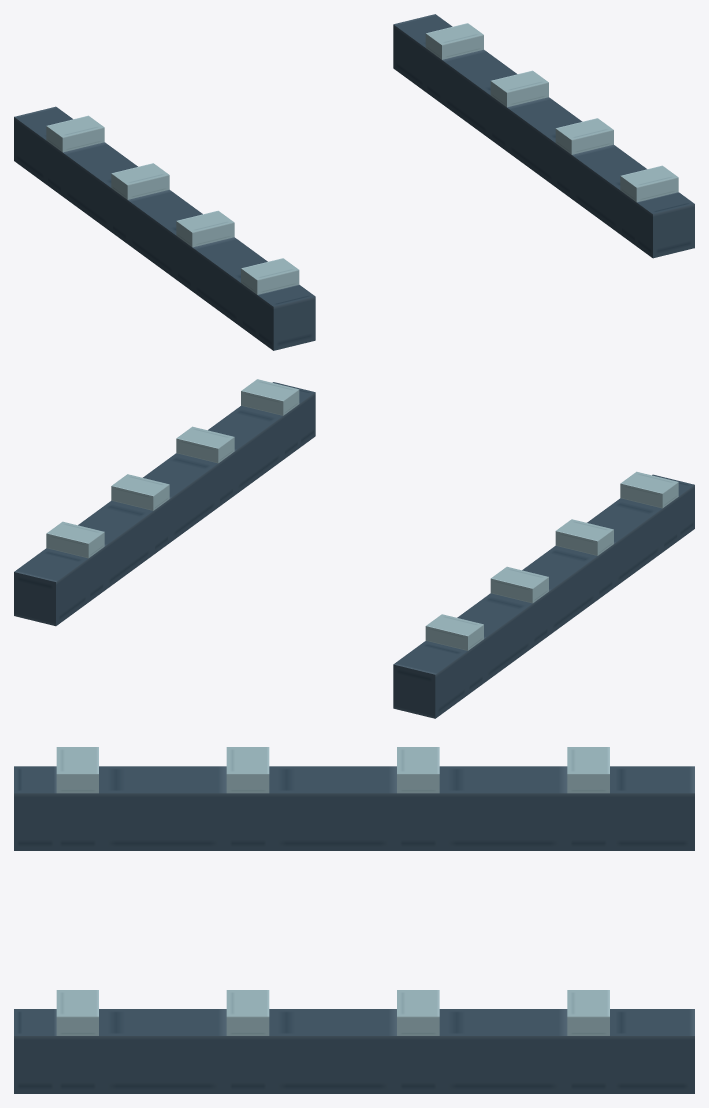
Rendered from sc_belt_rails.obj.
The picture shows the model from 3 angles, top to bottom: view 1: azimuth 30°, elevation 25°; view 2: azimuth 150°, elevation 25°; view 3: azimuth 270°, elevation 25°; orthographic projection. The views are drawn at different scales.
Bounding box in the file's own units: 18.75 × 2.5 × 20.
1 material, 1 textured.
